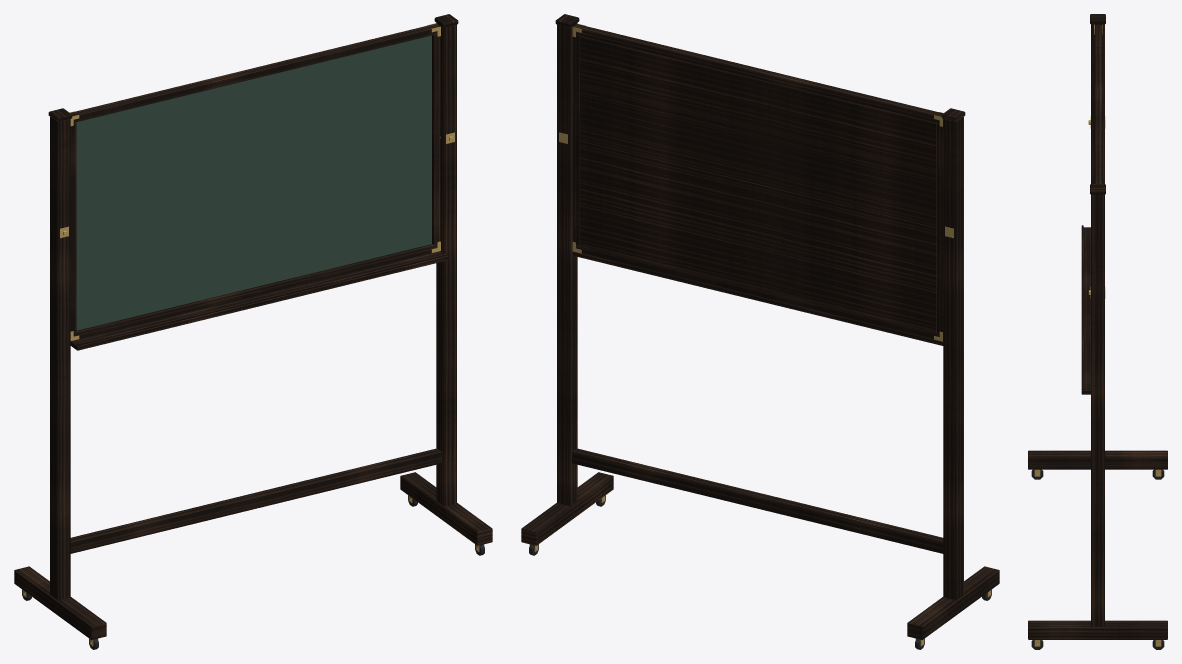
Rendered from 17B_Pizarron.fbx.
3 views of the same model, side by side, from view 1: azimuth 30°, elevation 25°; view 2: azimuth 150°, elevation 25°; view 3: azimuth 270°, elevation 25° (orthographic). The views are drawn at different scales.
Visible parts, largest first — view 1: SM_17B_Interfaz, SM_17B_Pizarron; view 2: SM_17B_Pizarron; view 3: SM_17B_Pizarron.
Boxes of the visible parts, <box> form: SM_17B_Interfaz: <box>76,35,431,330</box>; SM_17B_Pizarron: <box>14,14,492,649</box>; SM_17B_Pizarron: <box>521,14,999,649</box>; SM_17B_Pizarron: <box>1028,14,1167,649</box>.
Size of the model in its own units: 1.8 by 2.19 by 0.6.
